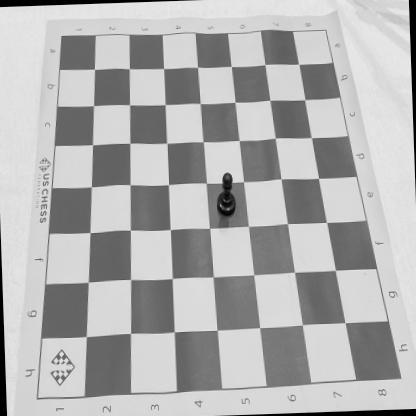pawn: (216, 172, 238, 218)
